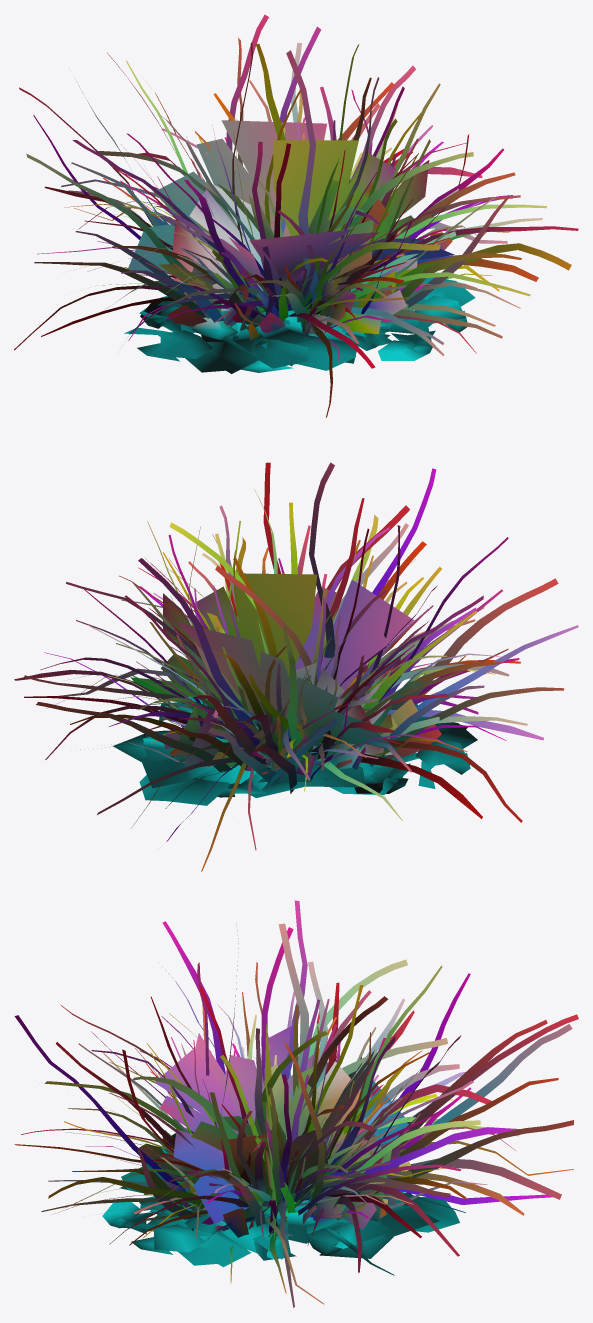
File: Wild_Grass_vczndjqja_Mid_vczndjqja_VarE_LOD1.fbx
3 renders of one model, top to bottom at view 1: azimuth 30°, elevation 25°; view 2: azimuth 150°, elevation 25°; view 3: azimuth 270°, elevation 25°, orthographic. The views are drawn at different scales.
Visible parts, largest first — view 1: _whp6_VarE_LOD2; view 2: _whp6_VarE_LOD2; view 3: _whp6_VarE_LOD2.
Boxes of the visible parts, x1,y1,x2,y2 form: _whp6_VarE_LOD2: (14, 14, 578, 417); _whp6_VarE_LOD2: (14, 462, 578, 871); _whp6_VarE_LOD2: (14, 900, 578, 1307).
Size of the model in its own units: 109 by 58.95 by 109.
